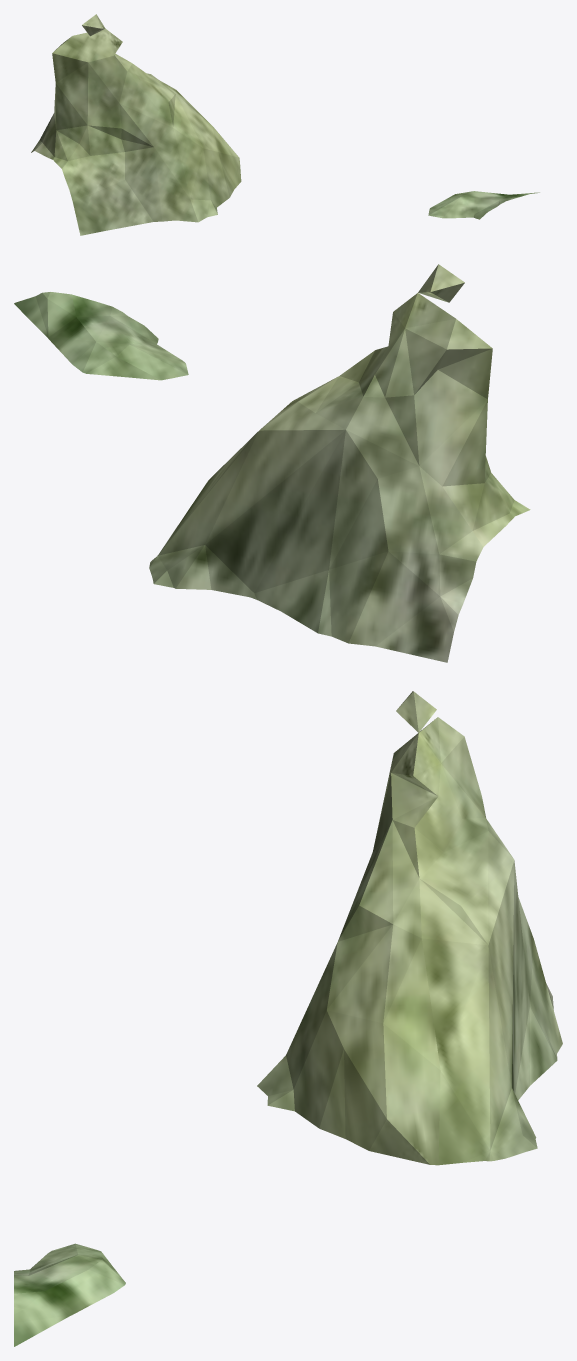
The picture shows the model from 3 angles, top to bottom: view 1: azimuth 30°, elevation 25°; view 2: azimuth 150°, elevation 25°; view 3: azimuth 270°, elevation 25°; orthographic projection. The views are drawn at different scales.
Bounding box in the file's own units: 2.67 × 1.22 × 1.76.
Materials: 1 (1 with a texture image).
